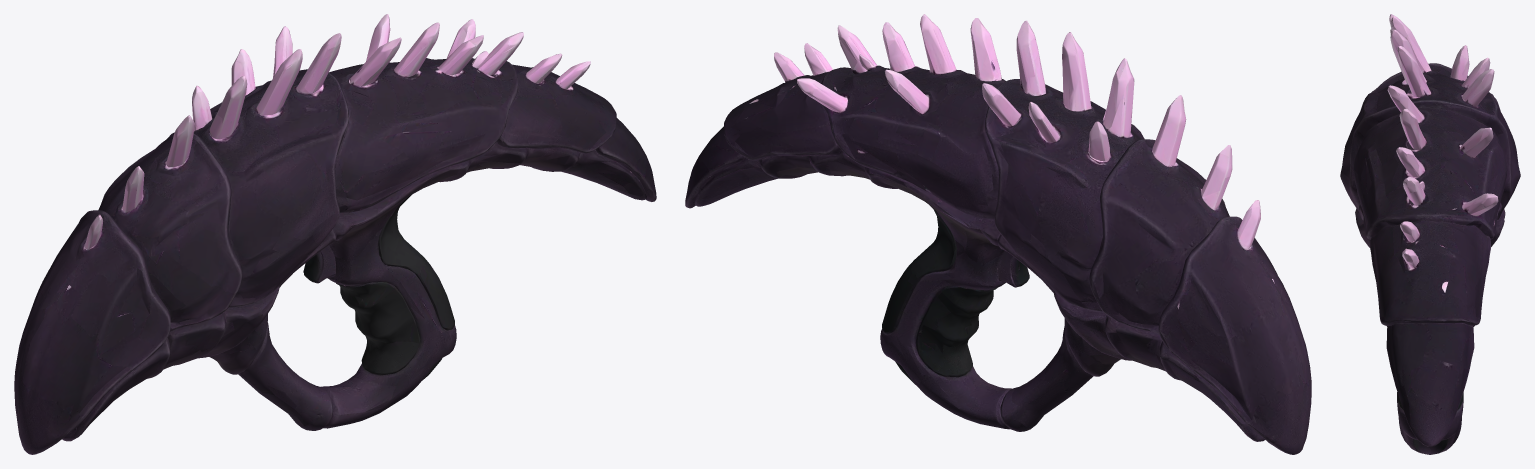
The model's file is gun_needle-high.glb.
The picture shows the model from 3 angles, left to right: view 1: azimuth 30°, elevation 25°; view 2: azimuth 150°, elevation 25°; view 3: azimuth 270°, elevation 25°; orthographic projection. The views are drawn at different scales.
Visible parts, largest first — view 1: Mesh_0; view 2: Mesh_0; view 3: Mesh_0.
Boxes of the visible parts, left/top/right/bottom form: Mesh_0: left=14, top=14, right=656, bottom=454; Mesh_0: left=685, top=14, right=1311, bottom=454; Mesh_0: left=1340, top=14, right=1520, bottom=454.
Bounding box in the file's own units: 1.9 × 1.16 × 0.4911.
1 material, 1 textured.
